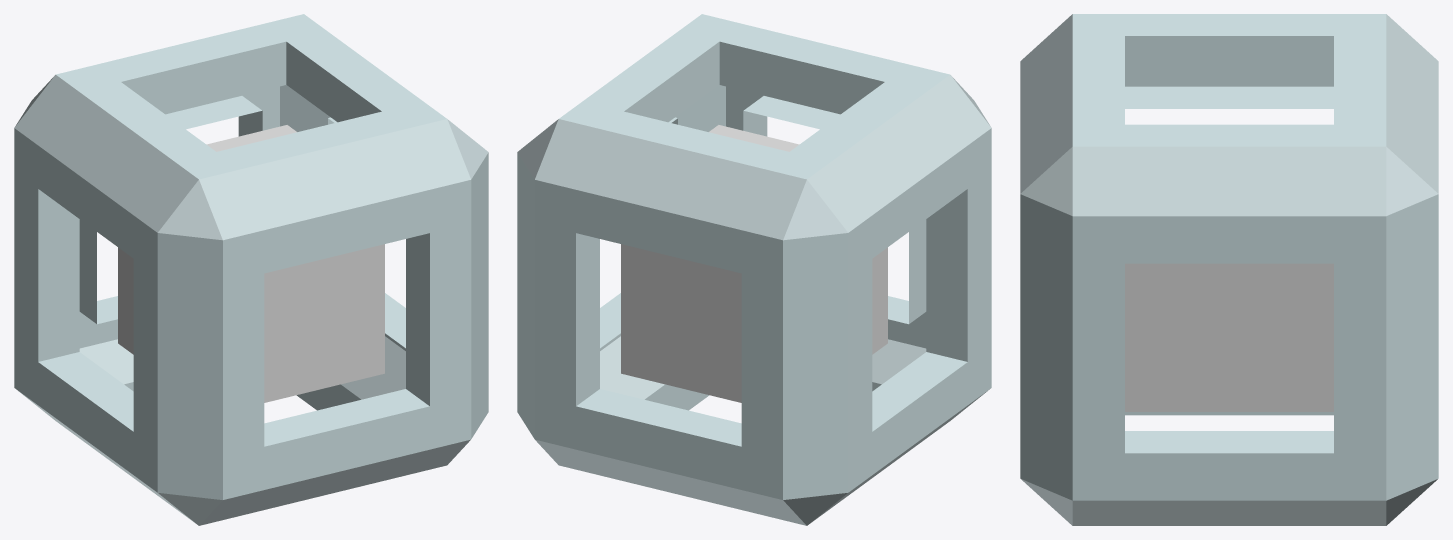
File: statue_block.fbx
3 views of the same model, side by side, from view 1: azimuth 30°, elevation 25°; view 2: azimuth 150°, elevation 25°; view 3: azimuth 270°, elevation 25° (orthographic). The views are drawn at different scales.
Visible parts, largest first — view 1: statue_block, Cube; view 2: statue_block, Cube; view 3: statue_block, Cube.
Boxes of the visible parts, bbox=[...] form: statue_block: bbox=[14, 14, 488, 525]; Cube: bbox=[118, 125, 384, 402]; statue_block: bbox=[517, 14, 991, 525]; Cube: bbox=[621, 125, 887, 402]; statue_block: bbox=[1020, 14, 1438, 525]; Cube: bbox=[1125, 263, 1333, 411].
Bounding box in the file's own units: 40 × 40 × 40.
